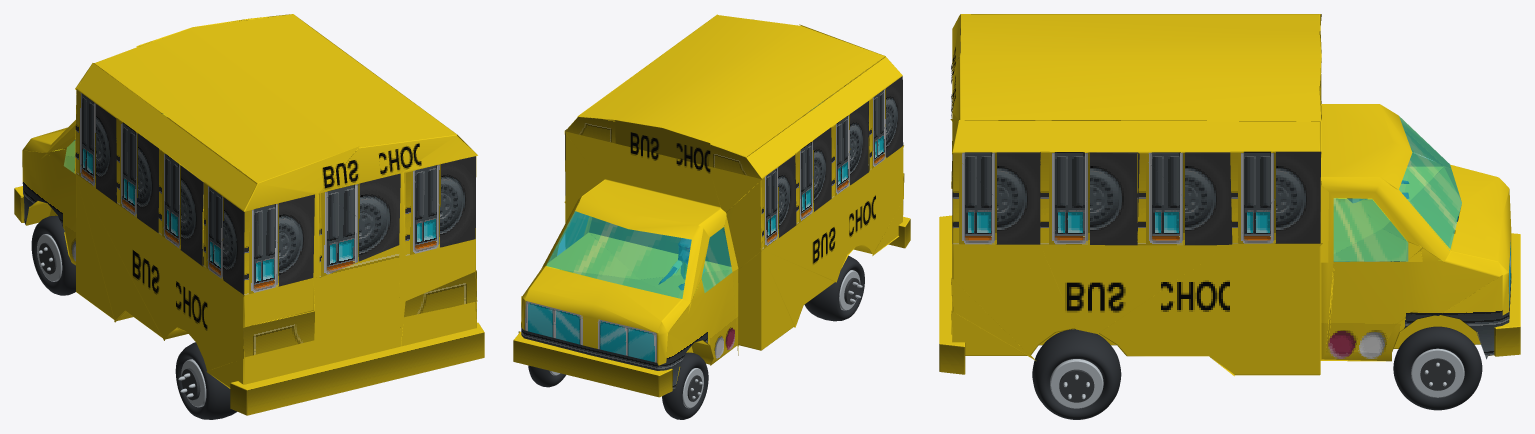
File: car-schoolbu.glb
The picture shows the model from 3 angles, left to right: view 1: azimuth 30°, elevation 25°; view 2: azimuth 150°, elevation 25°; view 3: azimuth 270°, elevation 25°; orthographic projection. The views are drawn at different scales.
Parts seen in each view (by area): view 1: schoolbuShape.001, schoolbuShape.002, Rounded tire.029, Rounded tire.030, Alloy rim.030, Alloy rim.029; view 2: schoolbuShape.001, windShape.001, schoolbuShape, schoolbuShape.002, Rounded tire.029, Rounded tire.030, Rounded tire.031, Alloy rim.030; view 3: schoolbuShape.001, windShape.001, schoolbuShape, Rounded tire.028, Rounded tire.031, schoolbuShape.002, Alloy rim.028, Alloy rim.031, Rim recess.057, Rim recess.063.
Boxes of the visible parts, box(x1,y1,x2,y2) form: schoolbuShape.001: box(14, 14, 484, 415); schoolbuShape.002: box(132, 143, 421, 330); Rounded tire.029: box(175, 342, 237, 419); Rounded tire.030: box(31, 215, 75, 295); Alloy rim.030: box(37, 234, 62, 281); Alloy rim.029: box(181, 359, 206, 407); schoolbuShape.001: box(513, 14, 910, 397); windShape.001: box(546, 211, 732, 298); schoolbuShape: box(546, 233, 731, 298); schoolbuShape.002: box(630, 132, 875, 264); Rounded tire.029: box(804, 255, 864, 321); Rounded tire.030: box(662, 352, 708, 419); Rounded tire.031: box(528, 365, 565, 387); Alloy rim.030: box(682, 368, 703, 408); schoolbuShape.001: box(939, 14, 1520, 376); windShape.001: box(1333, 116, 1461, 261); schoolbuShape: box(1333, 167, 1461, 260); Rounded tire.028: box(1032, 329, 1121, 419); Rounded tire.031: box(1393, 326, 1482, 410); schoolbuShape.002: box(951, 47, 1229, 312); Alloy rim.028: box(1050, 359, 1103, 408); Alloy rim.031: box(1411, 348, 1464, 397); Rim recess.057: box(1059, 369, 1094, 402); Rim recess.063: box(1420, 358, 1455, 390).
Size of the model in its own units: 3.1 by 3.41 by 5.73.
7 materials, 4 textured.
